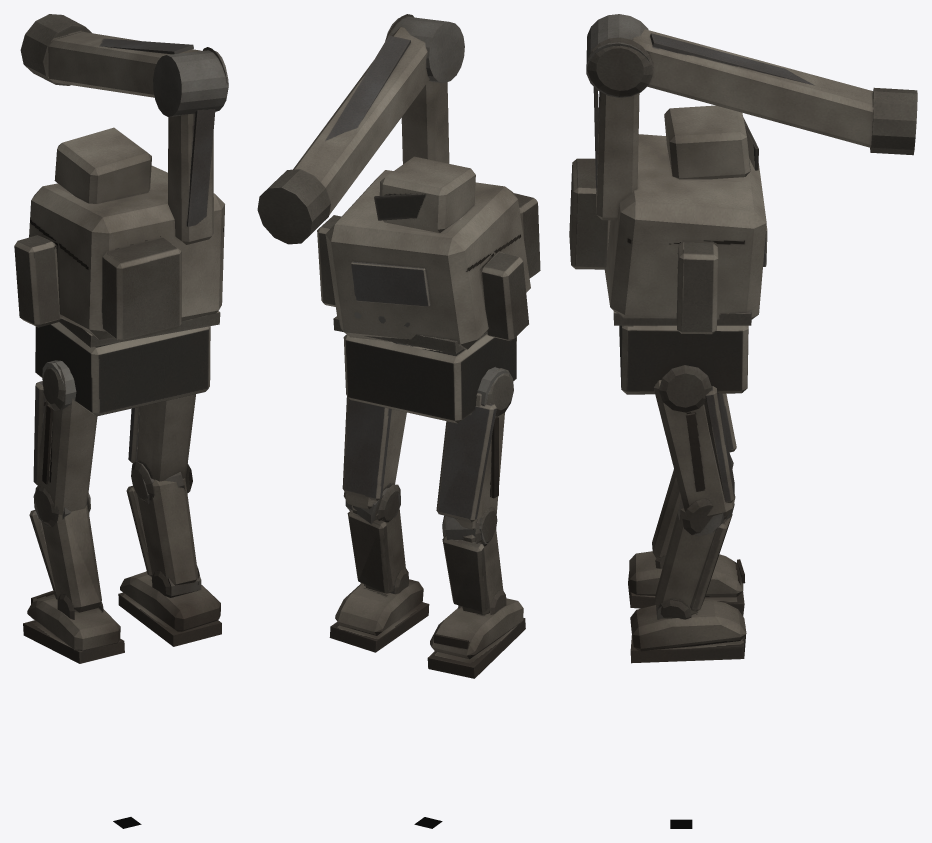
The model's file is ord_steward_wreck.fbx.
The picture shows the model from 3 angles, left to right: view 1: azimuth 30°, elevation 25°; view 2: azimuth 150°, elevation 25°; view 3: azimuth 270°, elevation 25°; orthographic projection. The views are drawn at different scales.
Visible parts, largest first — view 1: torso_bar, nano_bar, base_bar, thighL_bar, shinR_bar, thighR_bar, shinL_bar, footR_bar, footL_bar; view 2: torso_bar, nano_bar, base_bar, thighL_bar, thighR_bar, footL_bar, footR_bar, shinL_bar, shinR_bar; view 3: torso_bar, nano_bar, thighR_bar, base_bar, footR_bar, shinR_bar, footL_bar, shinL_bar.
Part boxes in pixels (x1=…): torso_bar: x1=14, y1=109, x2=224, y2=347; nano_bar: x1=20, y1=14, x2=228, y2=116; base_bar: x1=35, y1=322, x2=210, y2=416; thighL_bar: x1=33, y1=360, x2=97, y2=527; shinR_bar: x1=126, y1=478, x2=201, y2=597; thighR_bar: x1=128, y1=394, x2=195, y2=504; shinL_bar: x1=29, y1=504, x2=103, y2=619; footR_bar: x1=118, y1=571, x2=221, y2=646; footL_bar: x1=23, y1=590, x2=124, y2=663; torso_bar: x1=317, y1=81, x2=540, y2=353; nano_bar: x1=257, y1=14, x2=464, y2=244; base_bar: x1=343, y1=334, x2=516, y2=423; thighL_bar: x1=436, y1=367, x2=513, y2=546; thighR_bar: x1=342, y1=396, x2=406, y2=524; footL_bar: x1=427, y1=598, x2=525, y2=678; footR_bar: x1=329, y1=579, x2=429, y2=652; shinL_bar: x1=442, y1=529, x2=506, y2=614; shinR_bar: x1=347, y1=508, x2=408, y2=594; torso_bar: x1=569, y1=87, x2=767, y2=334; nano_bar: x1=586, y1=14, x2=917, y2=155; thighR_bar: x1=654, y1=365, x2=735, y2=536; base_bar: x1=619, y1=325, x2=748, y2=394; footR_bar: x1=630, y1=600, x2=746, y2=663; shinR_bar: x1=655, y1=498, x2=732, y2=619; footL_bar: x1=628, y1=551, x2=745, y2=616; shinL_bar: x1=652, y1=469, x2=681, y2=568.
Bounding box in the file's own units: 212 × 813 × 314.
Materials: 2 (2 with a texture image).
